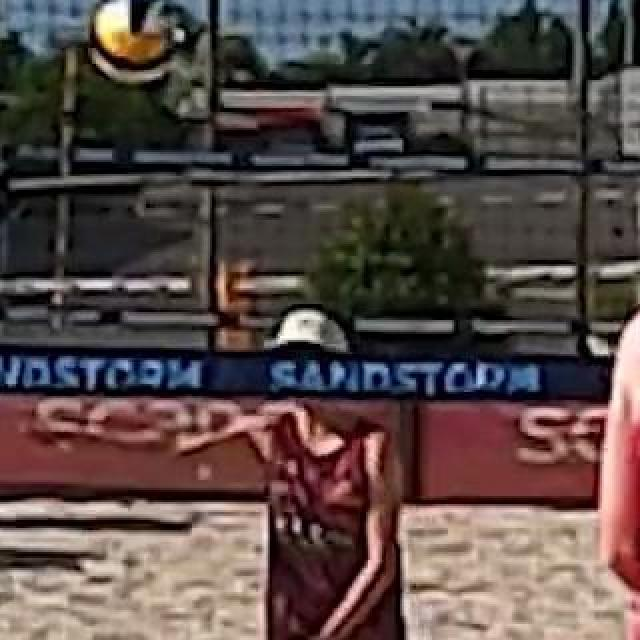volleyball: (87, 0, 171, 80)
